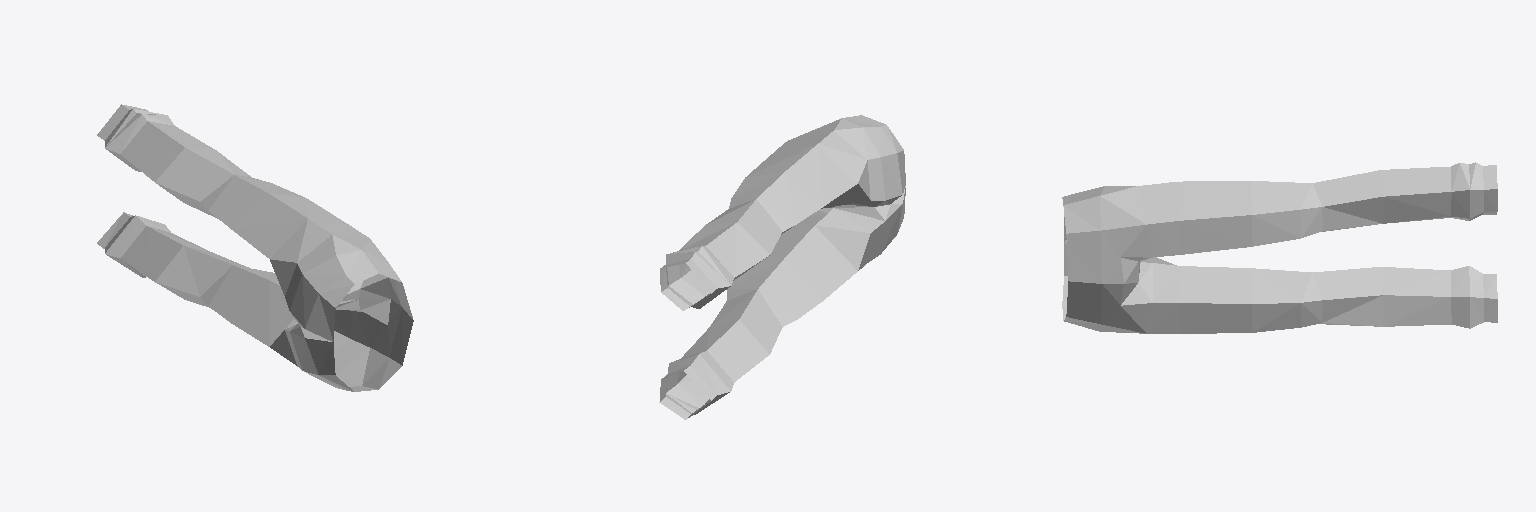
3 views of the same model, side by side, from view 1: azimuth 30°, elevation 25°; view 2: azimuth 150°, elevation 25°; view 3: azimuth 270°, elevation 25° (orthographic).
Parts seen in each view (by area): view 1: ka_downbody_001_re; view 2: ka_downbody_001_re; view 3: ka_downbody_001_re.
Part boxes in pixels (x1,y1,x2,y2): ka_downbody_001_re: (97,104,413,391); ka_downbody_001_re: (659,115,905,419); ka_downbody_001_re: (1062,162,1497,333).
Bounding box in the file's own units: 27.22 × 37.09 × 89.52.